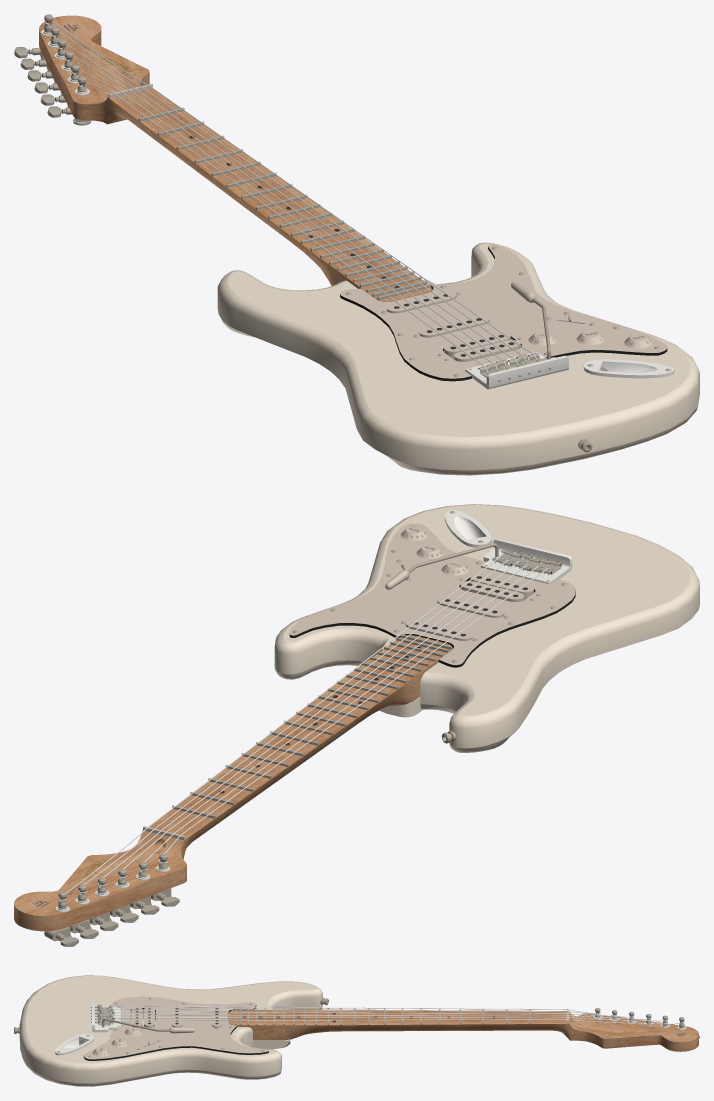
Rendered from stratocaster.glb.
The picture shows the model from 3 angles, top to bottom: view 1: azimuth 30°, elevation 25°; view 2: azimuth 150°, elevation 25°; view 3: azimuth 270°, elevation 25°; orthographic projection. The views are drawn at different scales.
Parts seen in each view (by area): view 1: Cube_low, Cube.001_low, Cube.002_low, Spiral.002_low, Plane.013_low, Plane.007_low, Cylinder.005_low, Cube.005_low, Cube.006_low, Plane.012_low; view 2: Cube_low, Cube.001_low, Cube.002_low, Spiral.002_low, Plane.013_low, Cylinder.005_low, Plane.007_low, Cube.005_low, Cube.006_low, Plane.012_low, Plane_low; view 3: Cube_low, Cube.001_low, Cube.002_low, Spiral.002_low, Plane.007_low, Plane.013_low, Cube.005_low, Cube.006_low, Plane.012_low, Plane.014_low, Cylinder.005_low, Plane_low (+1 smaller).
Boxes of the visible parts, box(x1,y1,x2,y2) form: Cube_low: box(217, 242, 699, 475); Cube.001_low: box(39, 15, 431, 301); Cube.002_low: box(340, 244, 667, 381); Spiral.002_low: box(44, 20, 536, 374); Plane.013_low: box(108, 83, 431, 299); Plane.007_low: box(386, 291, 520, 361); Cylinder.005_low: box(14, 14, 91, 125); Cube.005_low: box(466, 352, 568, 389); Cube.006_low: box(583, 359, 674, 378); Plane.012_low: box(528, 330, 652, 348); Cube_low: box(274, 504, 699, 752); Cube.001_low: box(14, 635, 452, 931); Cube.002_low: box(289, 523, 575, 667); Spiral.002_low: box(58, 556, 549, 900); Plane.013_low: box(143, 634, 452, 840); Cylinder.005_low: box(44, 854, 179, 946); Plane.007_low: box(405, 574, 533, 640); Cube.005_low: box(482, 538, 572, 583); Cube.006_low: box(444, 510, 491, 547); Plane.012_low: box(400, 526, 468, 575); Plane_low: box(492, 550, 561, 574); Cube_low: box(19, 975, 322, 1086); Cube.001_low: box(229, 1009, 698, 1051); Cube.002_low: box(83, 996, 268, 1060); Spiral.002_low: box(106, 1005, 684, 1024); Plane.007_low: box(131, 1006, 222, 1027); Plane.013_low: box(235, 1008, 568, 1025); Cube.005_low: box(92, 1001, 120, 1032); Cube.006_low: box(55, 1034, 93, 1055); Plane.012_low: box(92, 1027, 141, 1056); Plane.014_low: box(102, 1018, 194, 1033); Cylinder.005_low: box(595, 1008, 699, 1038); Plane_low: box(97, 1004, 114, 1025).
Size of the model in its own units: 0.3241 by 0.062 by 1.02.
2 materials, 2 textured.
